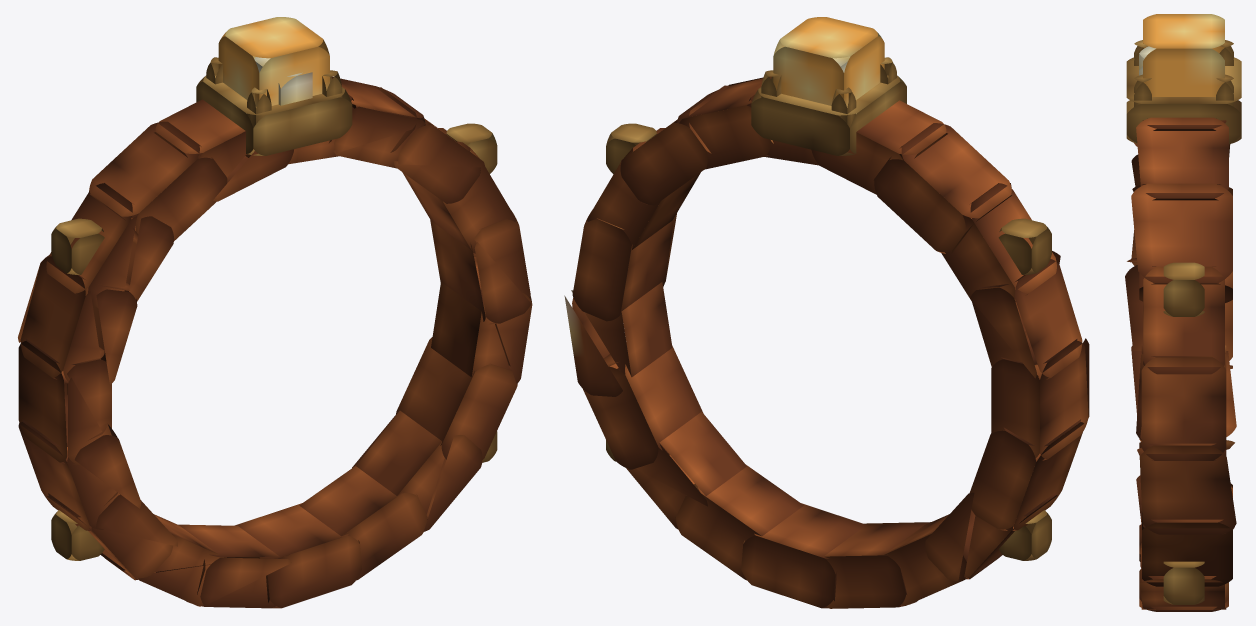
Rendered from tunnel_rats_band.obj.
3 views of the same model, side by side, from view 1: azimuth 30°, elevation 25°; view 2: azimuth 150°, elevation 25°; view 3: azimuth 270°, elevation 25° (orthographic).
Visible parts, largest first — view 1: lit, fire; view 2: lit, fire; view 3: lit, fire.
Boxes of the visible parts, x1=… form: lit: x1=18, y1=57, x2=532, y2=608; fire: x1=218, y1=17, x2=329, y2=113; lit: x1=564, y1=57, x2=1089, y2=608; fire: x1=773, y1=17, x2=884, y2=113; lit: x1=1125, y1=40, x2=1241, y2=611; fire: x1=1139, y1=14, x2=1224, y2=96.
Bounding box in the file's own units: 0.6711 × 0.7492 × 0.144.
